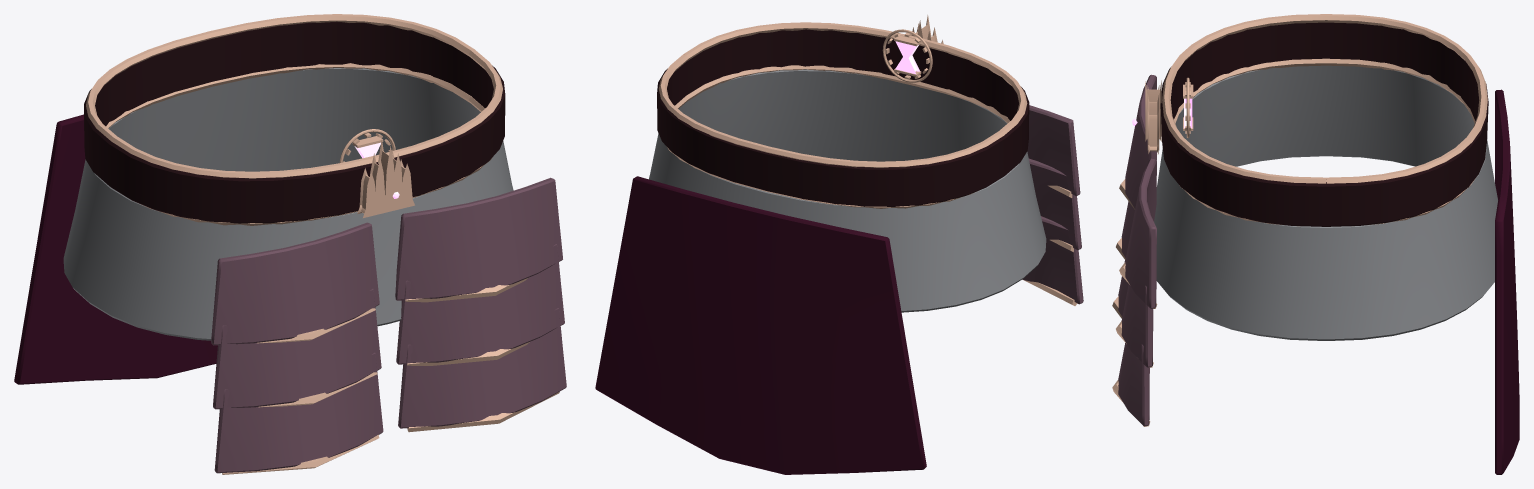
File: asc_aeonbreaker_inner.glb
3 renders of one model, left to right at view 1: azimuth 30°, elevation 25°; view 2: azimuth 150°, elevation 25°; view 3: azimuth 270°, elevation 25°, orthographic. The views are drawn at different scales.
Parts seen in each view (by area): view 1: asc_aeonbreaker_inner, AT_thigh_L, AT_thigh_R; view 2: asc_aeonbreaker_inner, AT_thigh_R; view 3: asc_aeonbreaker_inner, AT_thigh_L, AT_thigh_R.
Boxes of the visible parts, left/top/right/bottom form: asc_aeonbreaker_inner: left=14, top=14, right=513, bottom=384; AT_thigh_L: left=395, top=177, right=566, bottom=432; AT_thigh_R: left=211, top=222, right=383, bottom=474; asc_aeonbreaker_inner: left=595, top=15, right=1046, bottom=474; AT_thigh_R: left=1022, top=105, right=1083, bottom=305; asc_aeonbreaker_inner: left=1132, top=14, right=1519, bottom=474; AT_thigh_L: left=1112, top=158, right=1157, bottom=426; AT_thigh_R: left=1112, top=74, right=1157, bottom=318.
Size of the model in its own units: 0.5145 by 0.4404 by 0.4717.
